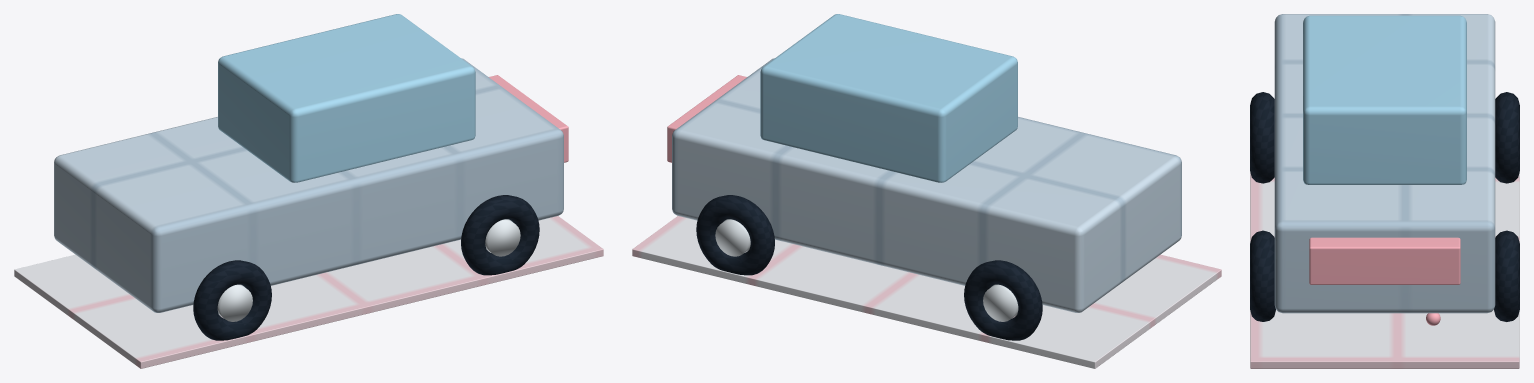
Rendered from vehicle.glb.
The picture shows the model from 3 angles, left to right: view 1: azimuth 30°, elevation 25°; view 2: azimuth 150°, elevation 25°; view 3: azimuth 270°, elevation 25°; orthographic projection. The views are drawn at different scales.
Visible parts, largest first — view 1: vehicle_body, vehicle_cabin, under_vehicle_bev_panel, wheel_tire.003, wheel_tire.001, wheel_hub.001, wheel_hub.003, front_sensor_bar; view 2: vehicle_body, vehicle_cabin, under_vehicle_bev_panel, wheel_tire.002, wheel_tire, wheel_hub, wheel_hub.002, front_sensor_bar; view 3: vehicle_body, vehicle_cabin, under_vehicle_bev_panel, front_sensor_bar, wheel_tire, wheel_tire.001, wheel_tire.002, wheel_tire.003.
Part boxes in pixels (x1,y1,x2,y2): vehicle_body: (54, 58, 563, 312); vehicle_cabin: (218, 14, 475, 182); under_vehicle_bev_panel: (14, 216, 603, 368); wheel_tire.003: (461, 195, 539, 275); wheel_tire.001: (193, 260, 271, 340); wheel_hub.001: (217, 284, 252, 321); wheel_hub.003: (485, 219, 520, 256); front_sensor_bar: (489, 75, 568, 162); vehicle_body: (672, 58, 1181, 312); vehicle_cabin: (760, 14, 1017, 182); under_vehicle_bev_panel: (632, 216, 1221, 368); wheel_tire.002: (696, 195, 774, 275); wheel_tire: (964, 260, 1042, 340); wheel_hub: (983, 284, 1018, 321); wheel_hub.002: (715, 219, 750, 256); front_sensor_bar: (667, 75, 746, 162); vehicle_body: (1274, 14, 1495, 313); vehicle_cabin: (1303, 15, 1466, 184); under_vehicle_bev_panel: (1250, 173, 1519, 368); front_sensor_bar: (1309, 237, 1460, 284); wheel_tire: (1495, 92, 1519, 183); wheel_tire.001: (1250, 92, 1274, 183); wheel_tire.002: (1494, 230, 1519, 321); wheel_tire.003: (1250, 230, 1275, 321).
Size of the model in its own units: 2.7 by 1.09 by 1.28.
Materials: 6 (3 with a texture image).
